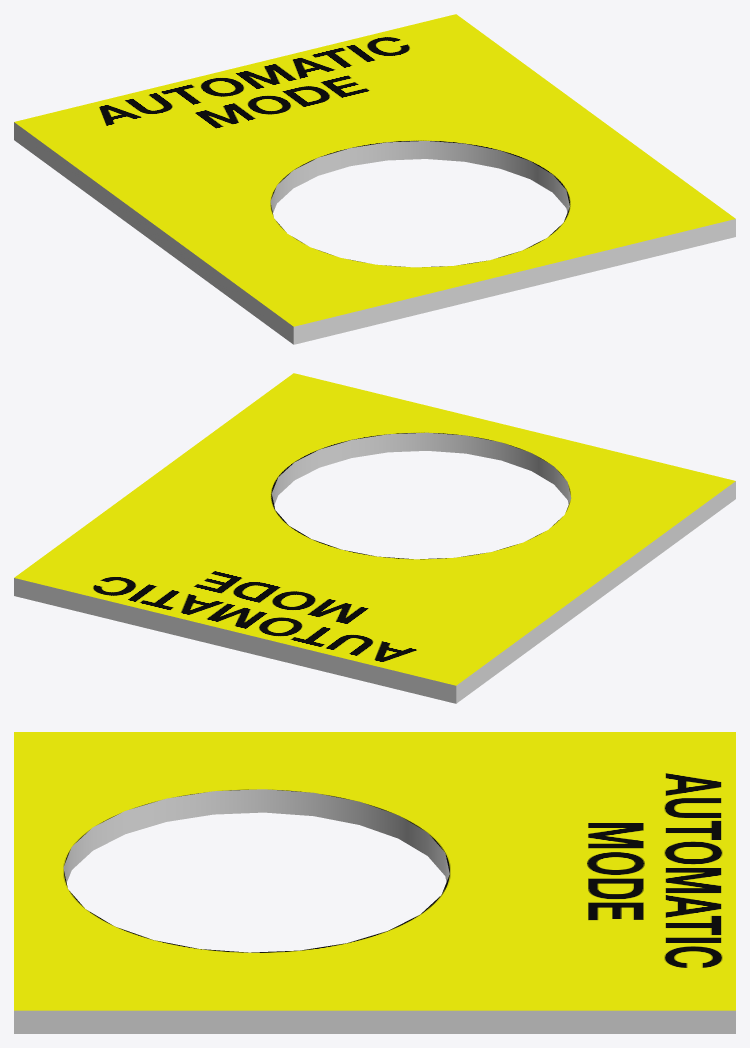
Rendered from automode.dae.
3 views of the same model, one above another, from view 1: azimuth 30°, elevation 25°; view 2: azimuth 150°, elevation 25°; view 3: azimuth 270°, elevation 25° (orthographic). The views are drawn at different scales.
Parts seen in each view (by area): view 1: SketchUp (×3); view 2: SketchUp (×3); view 3: SketchUp (×3).
Boxes of the visible parts, bbox=[...] form: SketchUp (×3): bbox=[14, 14, 735, 344]; SketchUp (×3): bbox=[14, 373, 735, 703]; SketchUp (×3): bbox=[14, 732, 735, 1033].
Bounding box in the file's own units: 2.01 × 2.2 × 0.0787.
Materials: 2 (1 with a texture image).
